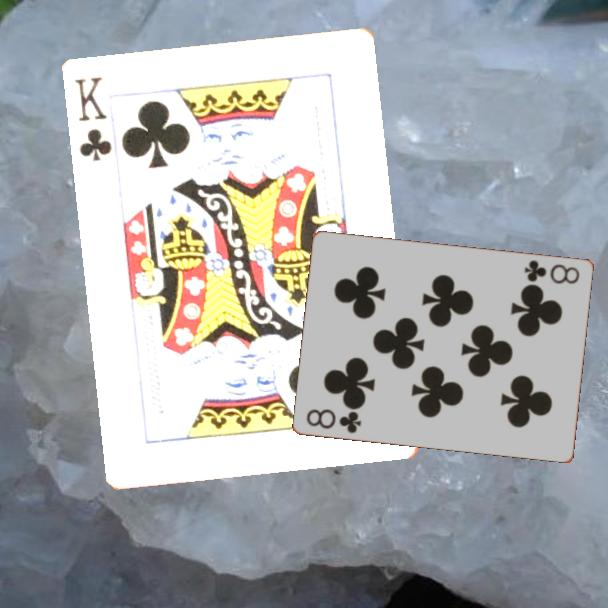c08: (521, 256, 583, 287), (303, 405, 365, 436)
c13: (72, 74, 115, 164)
